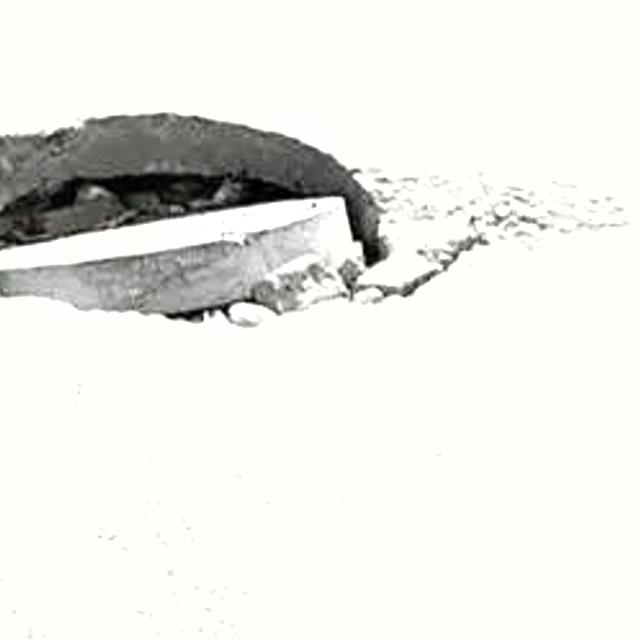circle: (0, 80, 551, 391)
